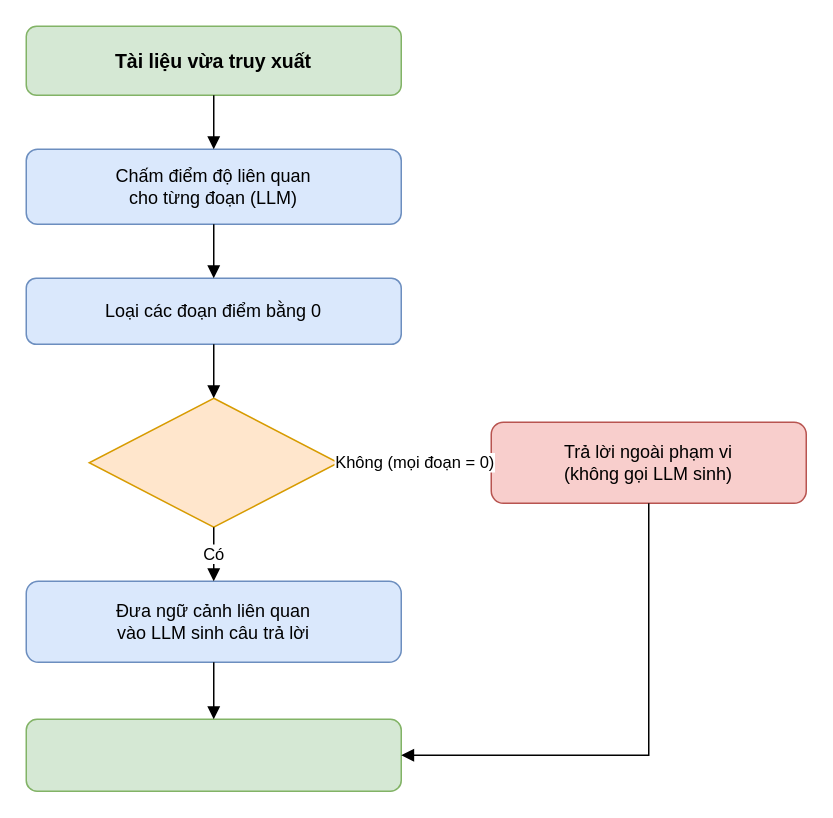
Some shapes in this 833 by 818 pixel diagram are drawn without their labels. The centre of each missing label's shape, as x and y in pixels:
Câu trả lời trả về người dùng: the point at 213,754
Còn đoạn nào liên quan?: the point at 213,462
